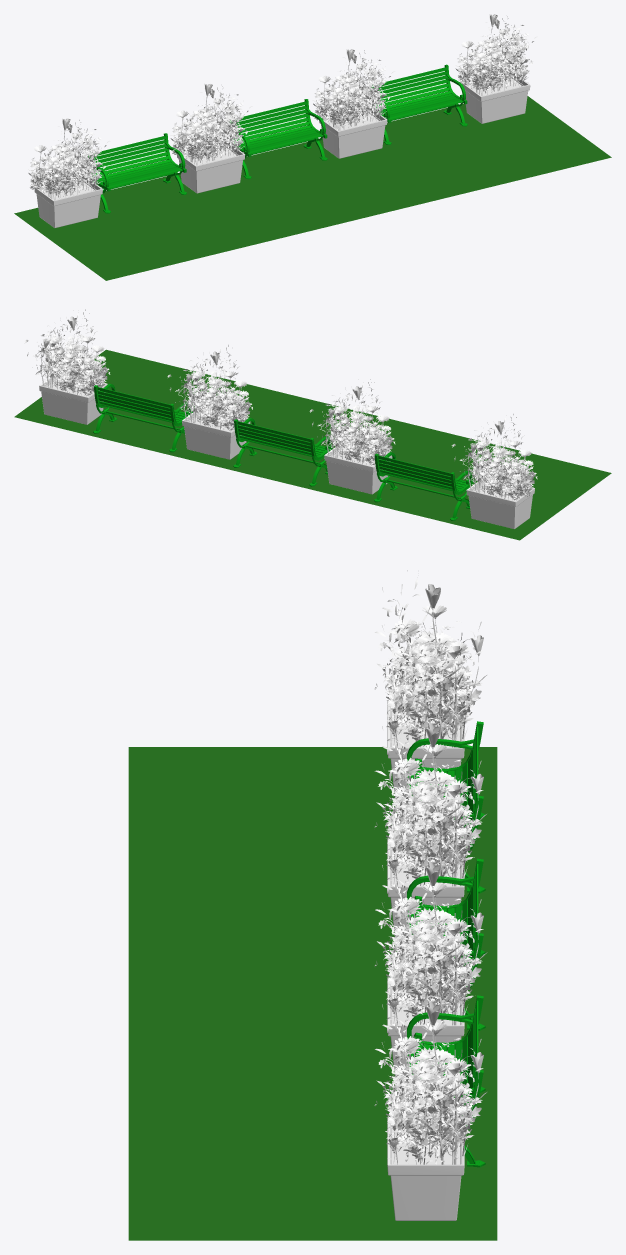
The model's file is flowerpots_benches_gras.glb.
The picture shows the model from 3 angles, top to bottom: view 1: azimuth 30°, elevation 25°; view 2: azimuth 150°, elevation 25°; view 3: azimuth 270°, elevation 25°; orthographic projection. The views are drawn at different scales.
Parts seen in each view (by area): view 1: Plane, Object_2.003, Object_2.002, Object_2, Object_2.001, Bench_HighRes.001, Bench_HighRes.003, Bench_HighRes.002, Object_3.003, Object_3.002, Object_3, Object_3.001; view 2: Plane, Object_2.003, Object_2.002, Object_2, Object_2.001, Bench_HighRes.001, Bench_HighRes.003, Bench_HighRes.002, Object_3.003, Object_3.002, Object_3, Object_3.001; view 3: Plane, Object_2.002, Object_2.003, Object_2, Object_2.001, Object_3.002, Bench_HighRes.002, Bench_HighRes.003, Bench_HighRes.001, Object_3.003, Object_3.001, Object_3.
Part boxes in pixels (box(x1,y1,x2,y2)): Plane: box(14, 96, 611, 280); Object_2.003: box(28, 118, 110, 200); Object_2.002: box(455, 14, 537, 95); Object_2: box(313, 49, 394, 130); Object_2.001: box(170, 83, 252, 165); Bench_HighRes.001: box(88, 133, 186, 213); Bench_HighRes.003: box(230, 99, 327, 179); Bench_HighRes.002: box(370, 64, 467, 144); Object_3.003: box(34, 176, 102, 227); Object_3.002: box(462, 72, 530, 123); Object_3: box(319, 107, 387, 158); Object_3.001: box(176, 141, 245, 193); Plane: box(14, 349, 611, 540); Object_2.003: box(451, 414, 537, 500); Object_2.002: box(24, 309, 110, 396); Object_2: box(167, 345, 252, 431); Object_2.001: box(309, 379, 395, 465); Bench_HighRes.001: box(374, 452, 473, 520); Bench_HighRes.003: box(233, 418, 332, 486); Bench_HighRes.002: box(93, 383, 192, 452); Object_3.003: box(466, 480, 534, 528); Object_3.002: box(39, 375, 107, 424); Object_3: box(182, 410, 250, 459); Object_3.001: box(324, 445, 392, 494); Plane: box(128, 747, 497, 1240); Object_2.002: box(374, 987, 486, 1164); Object_2.003: box(374, 570, 486, 747); Object_2: box(375, 848, 487, 1025); Object_2.001: box(374, 709, 486, 886); Object_3.002: box(387, 1117, 464, 1220); Bench_HighRes.002: box(407, 995, 485, 1167); Bench_HighRes.003: box(407, 858, 485, 1030); Bench_HighRes.001: box(407, 721, 485, 893); Object_3.003: box(387, 700, 464, 798); Object_3.001: box(387, 838, 464, 937); Object_3: box(387, 978, 464, 1076).
Size of the model in its own units: 16.36 by 3.17 by 5.16.
